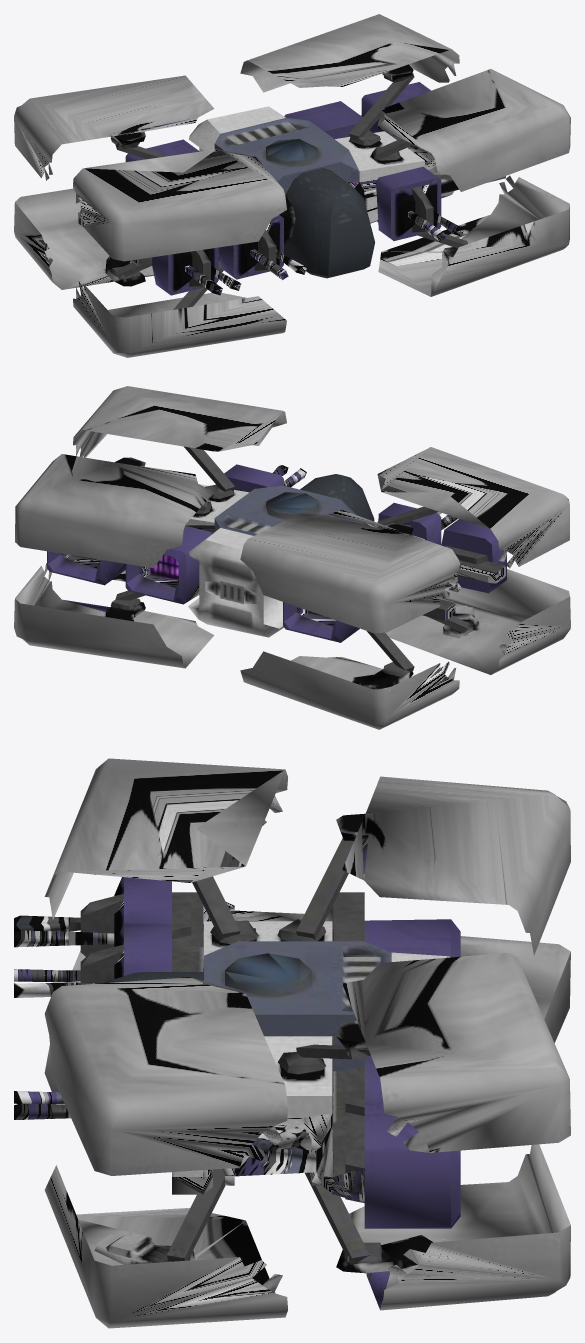
Rendered from turret-1-2.glb.
3 renders of one model, top to bottom at view 1: azimuth 30°, elevation 25°; view 2: azimuth 150°, elevation 25°; view 3: azimuth 270°, elevation 25°, orthographic. The views are drawn at different scales.
Parts seen in each view (by area): view 1: turret-1-2_0; view 2: turret-1-2_0; view 3: turret-1-2_0.
Part boxes in pixels (box(x1,y1,x2,y2)): turret-1-2_0: box(14, 14, 570, 357); turret-1-2_0: box(14, 386, 570, 729); turret-1-2_0: box(14, 758, 570, 1328).
Size of the model in its own units: 1 by 0.3058 by 0.6612.
1 material, 1 textured.
